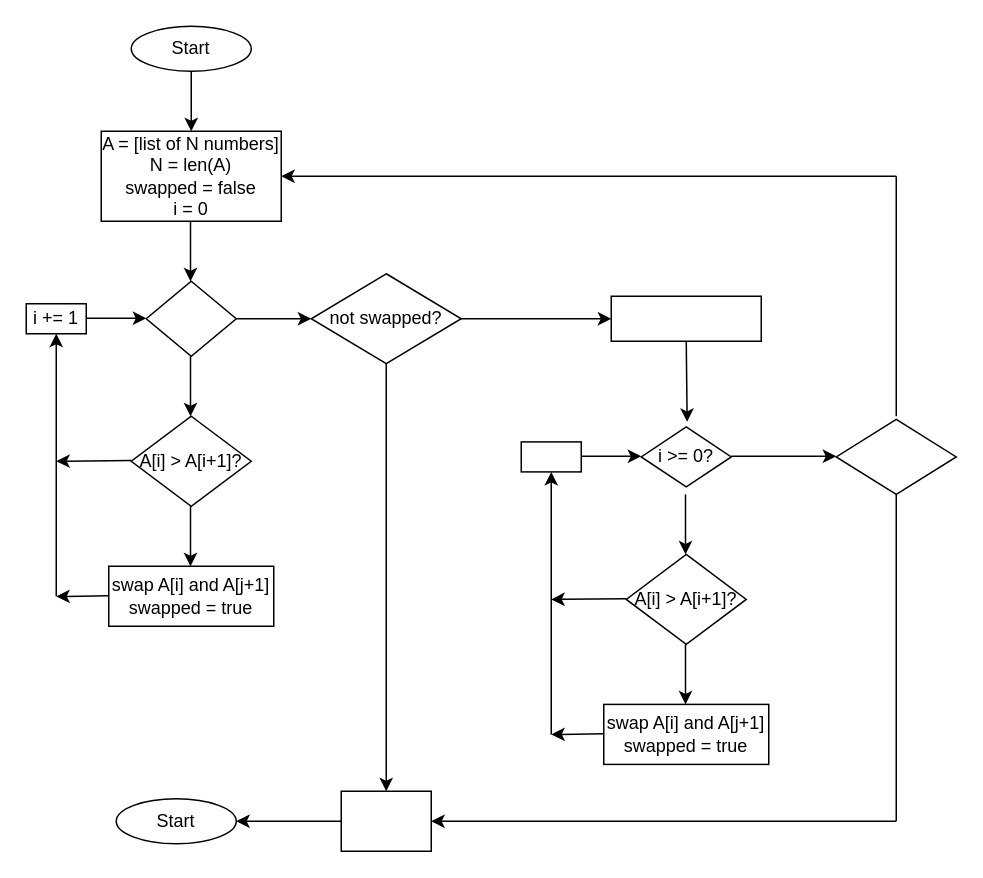
Image size: 983x878. Some labels were removed from this diagram. The shapes that lost their labels are listed below. From the top down, each one's box as (x1, y1, x2, y2) in pixels, then its label:
(145, 280, 236, 356): i < N?
(610, 295, 761, 341): swapped = false i = len(A)
(520, 440, 581, 472): i -= 1
(835, 418, 956, 494): swapped?
(340, 790, 431, 851): return(A)
